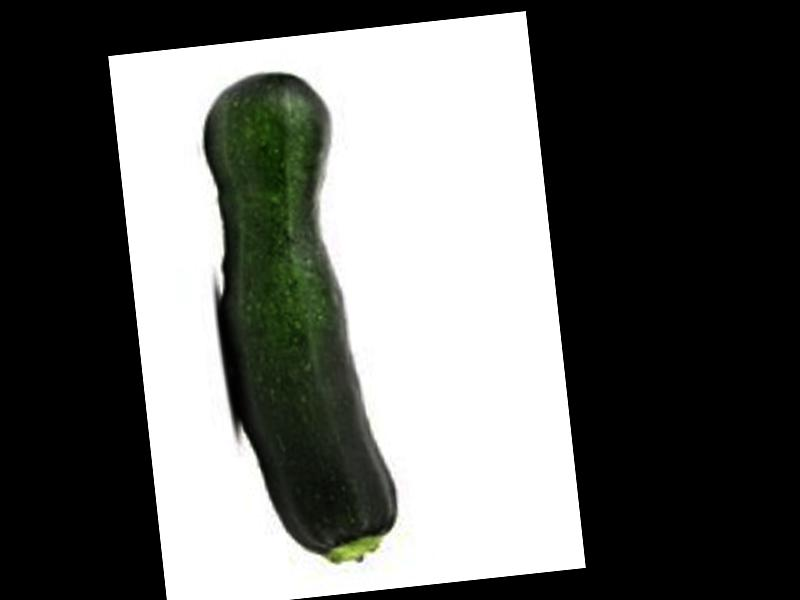Cucumber: (196, 65, 403, 574)
